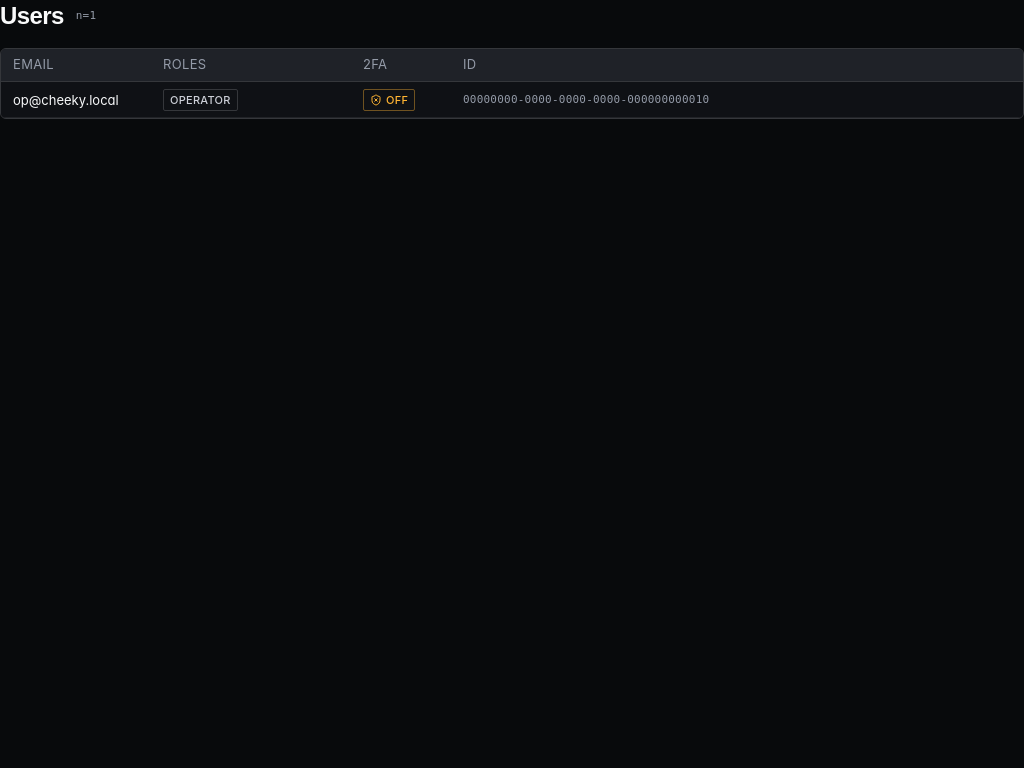
UsersView › opens the edit drawer when a row is clicked
This screenshot has width=1024, height=768.
What coordinates should you click on to do the following:
click the text "op@cheeky.local"
I would click on:
 (66, 100)
Its box is [13,90,119,110].
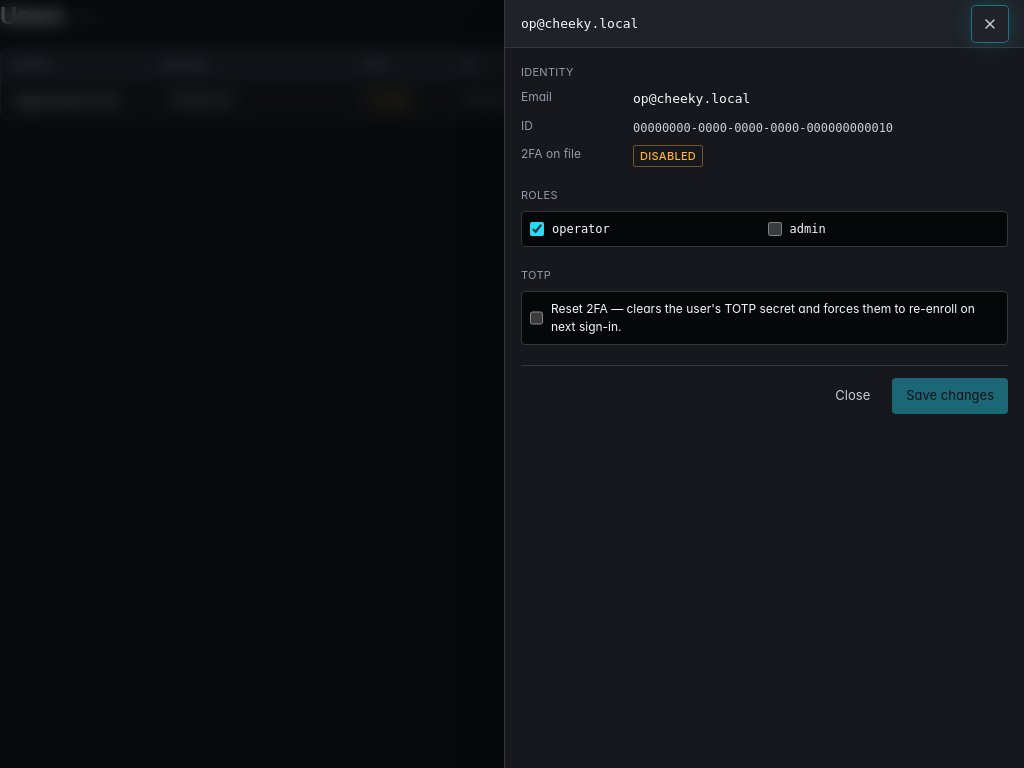
Expected: the form with test id "edit-user-form" is shown, [521,64,1008,414]
